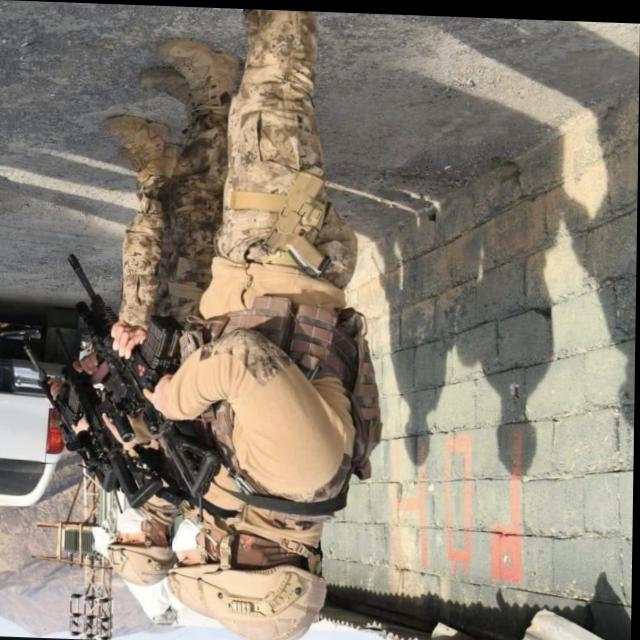poh_personel: (144, 4, 388, 640), (131, 32, 236, 622)
